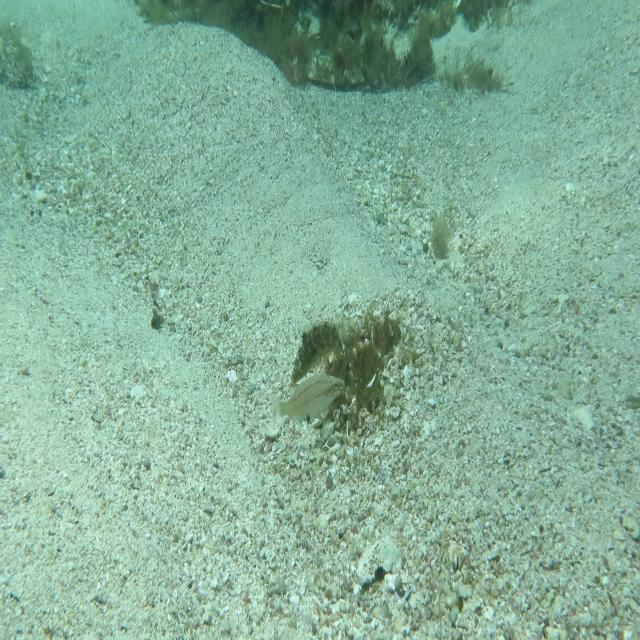BEND: (289, 312, 352, 412)
female: (269, 363, 351, 430)
nest: (303, 300, 414, 435)
vegetation: (131, 0, 527, 32), (261, 37, 440, 94), (428, 215, 456, 269)
